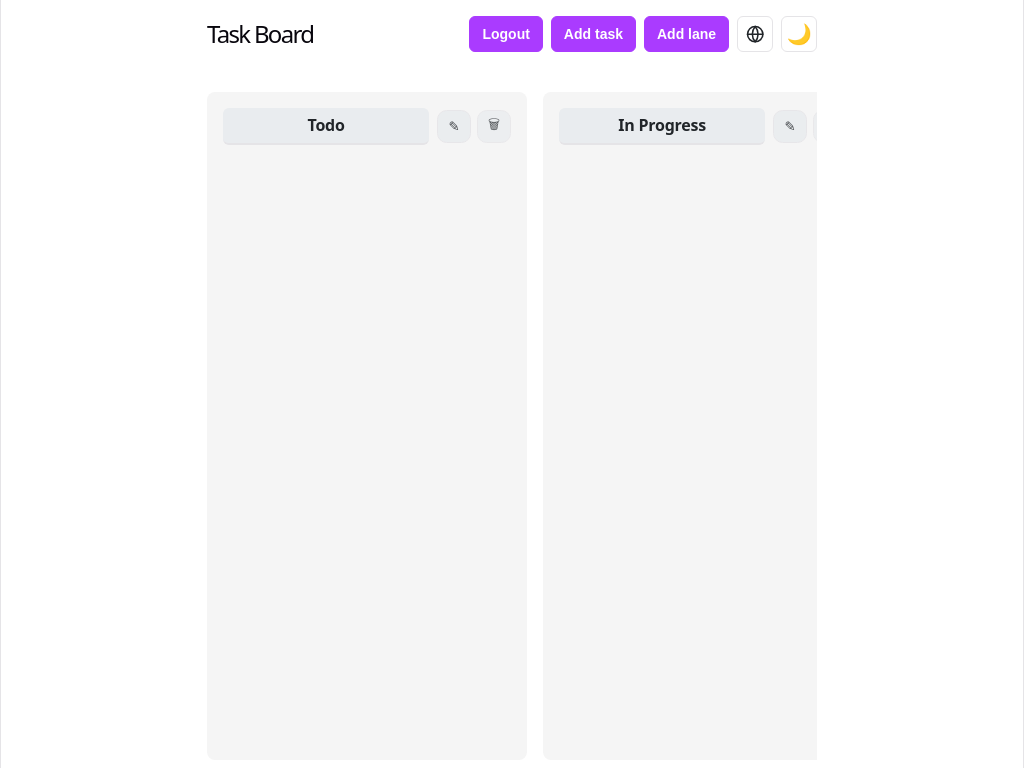
Test: TaskBoard › creates a task through the modal and lists it
Click the button "Add task" at [593, 34], box [551,16,636,52]
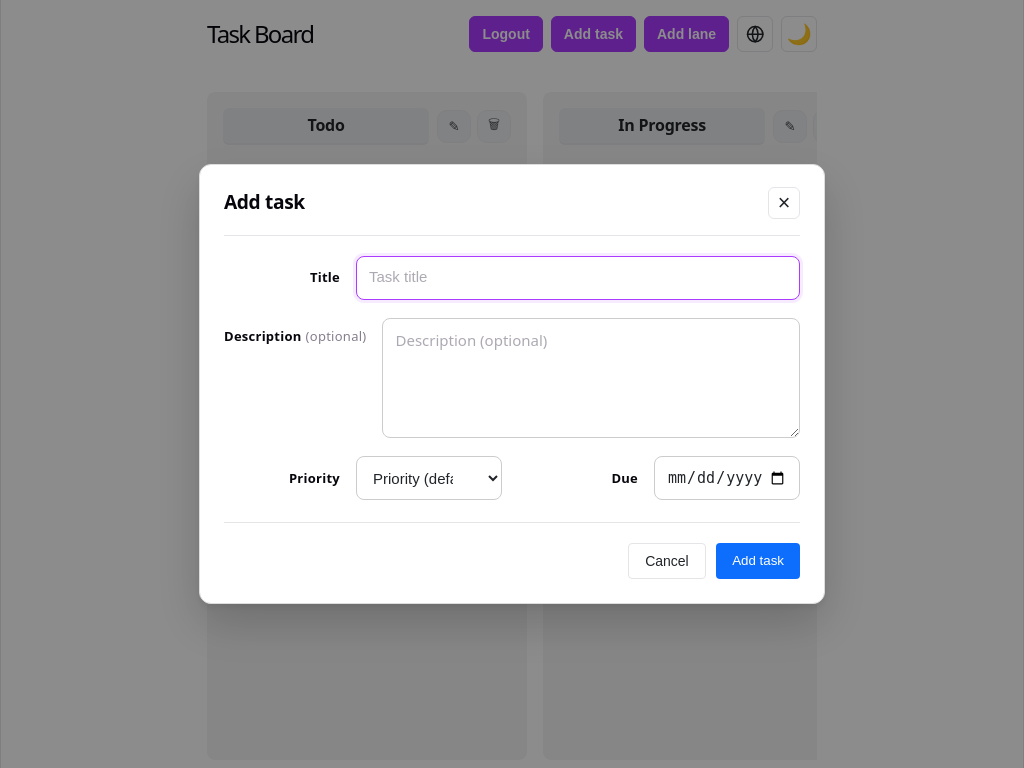
Type "Buy milk" into the field labelled "Title" at [578, 278], box [356,256,800,300]
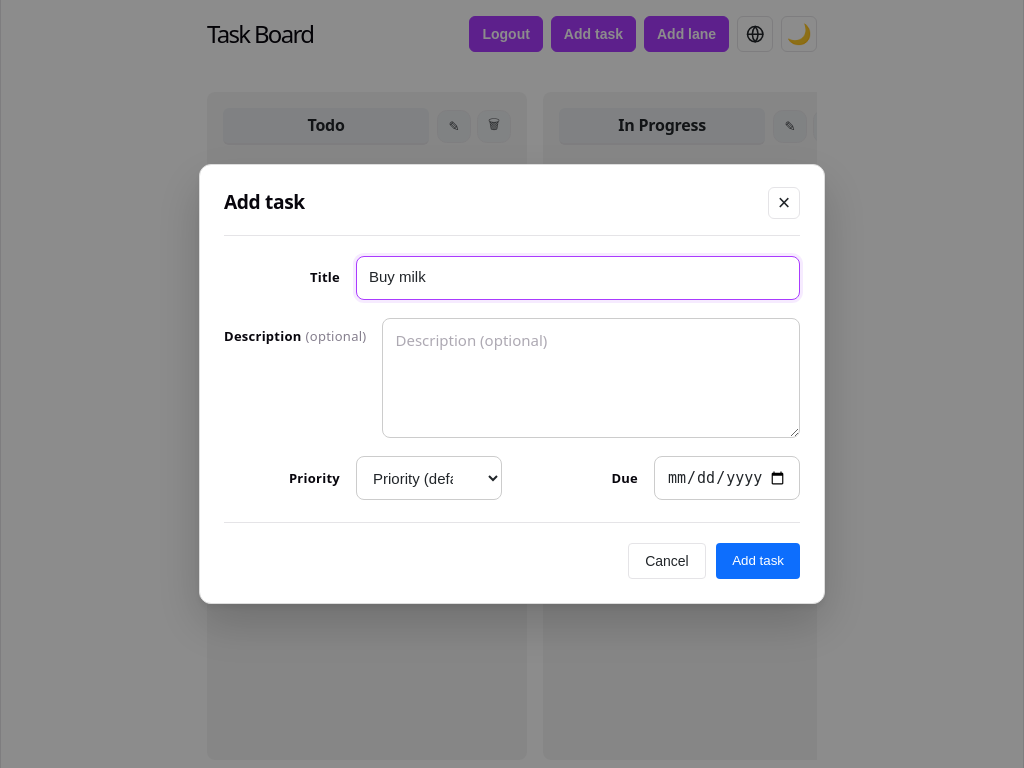
Click the button "Add task" at [758, 561], box [716,543,800,579]
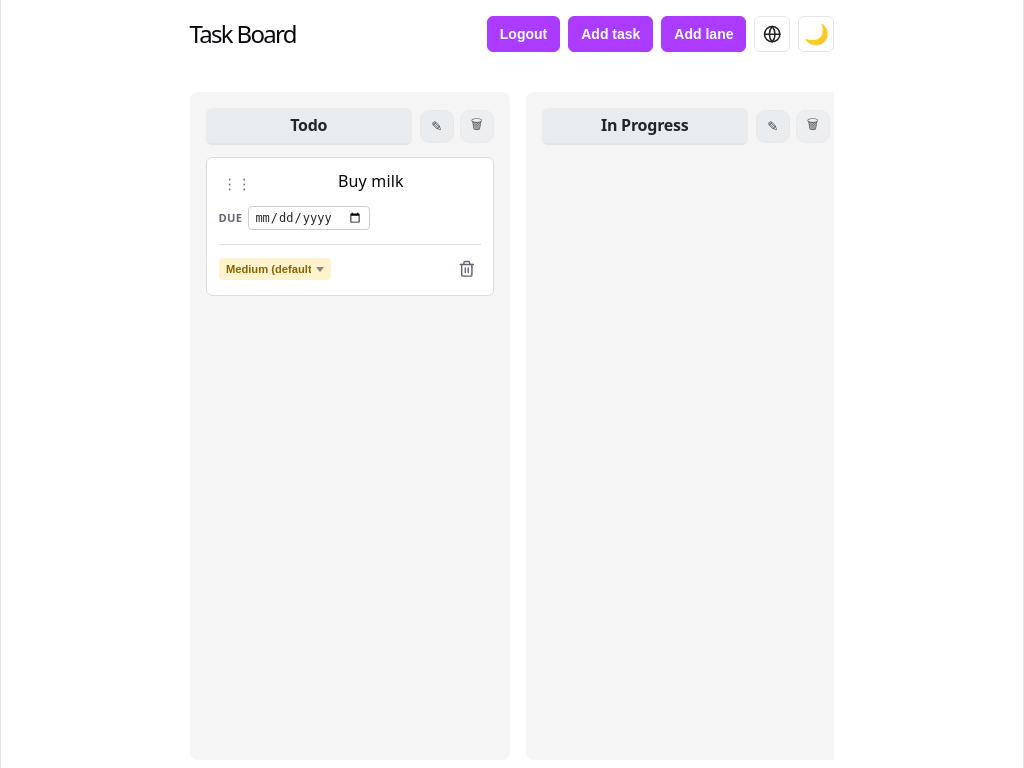
Now the text "Buy milk" is shown, box [338,170,404,192]
